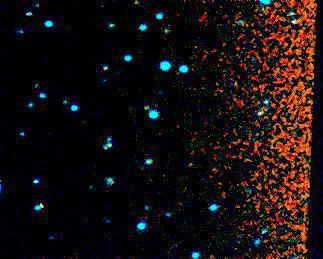star: (28, 188, 58, 218)
